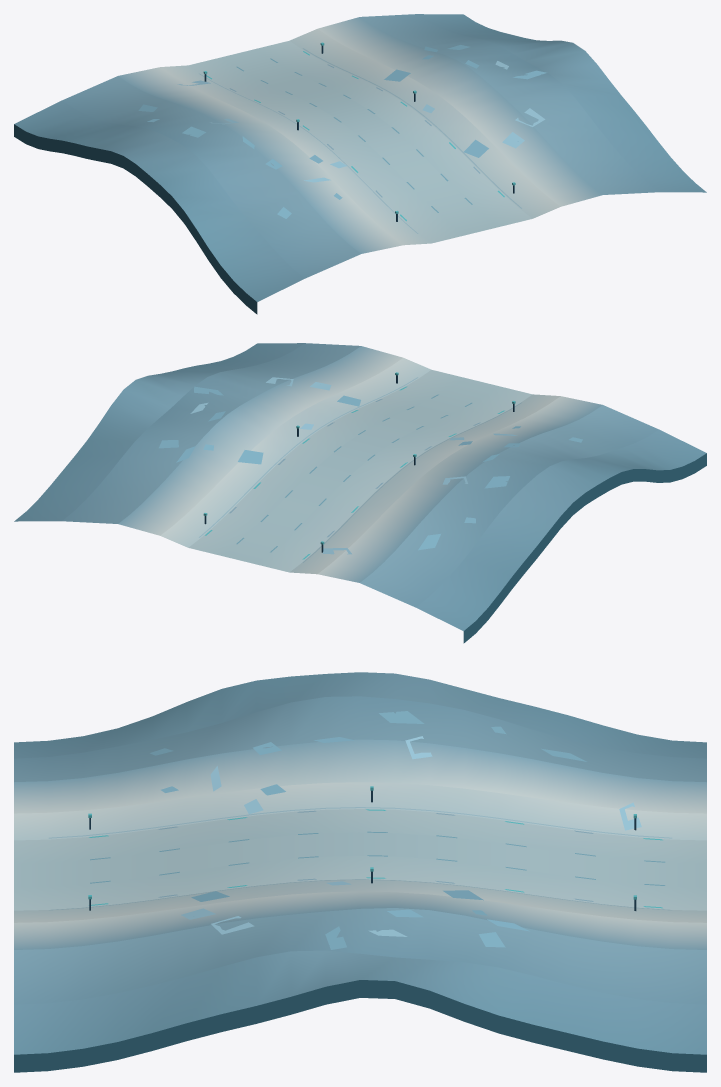
The model's file is 03-slope.glb.
3 renders of one model, top to bottom at view 1: azimuth 30°, elevation 25°; view 2: azimuth 150°, elevation 25°; view 3: azimuth 270°, elevation 25°, orthographic. The views are drawn at different scales.
Visible parts, largest first — view 1: slope; view 2: slope; view 3: slope.
Part boxes in pixels (x1,y1,x2,y2): slope: (14,14,706,314); slope: (14,343,706,643); slope: (14,672,706,1072).
Size of the model in its own units: 32 by 4.64 by 30.
